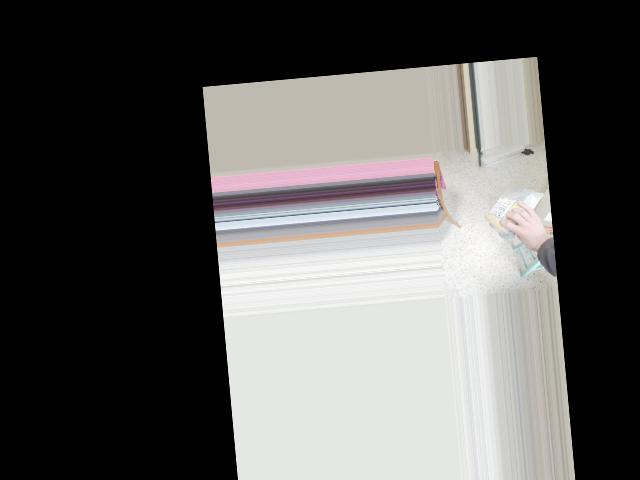cheese: (484, 188, 545, 236)
